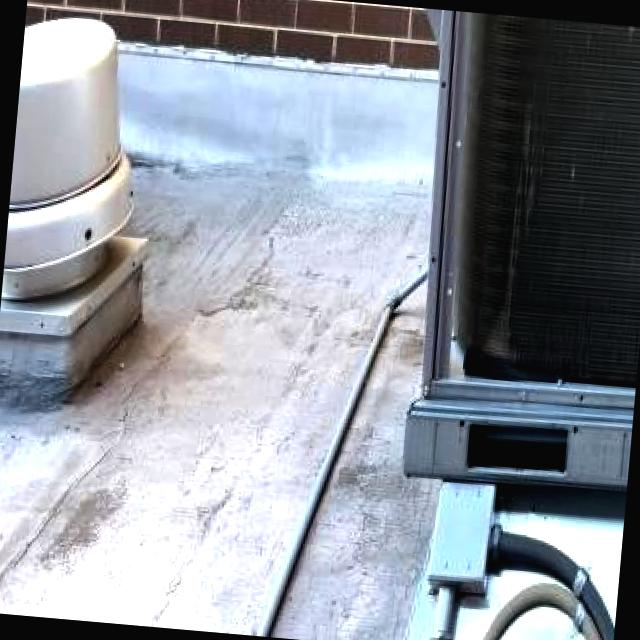GRAVITY-VENT: (0, 0, 177, 398)
RTU: (344, 5, 640, 529)
